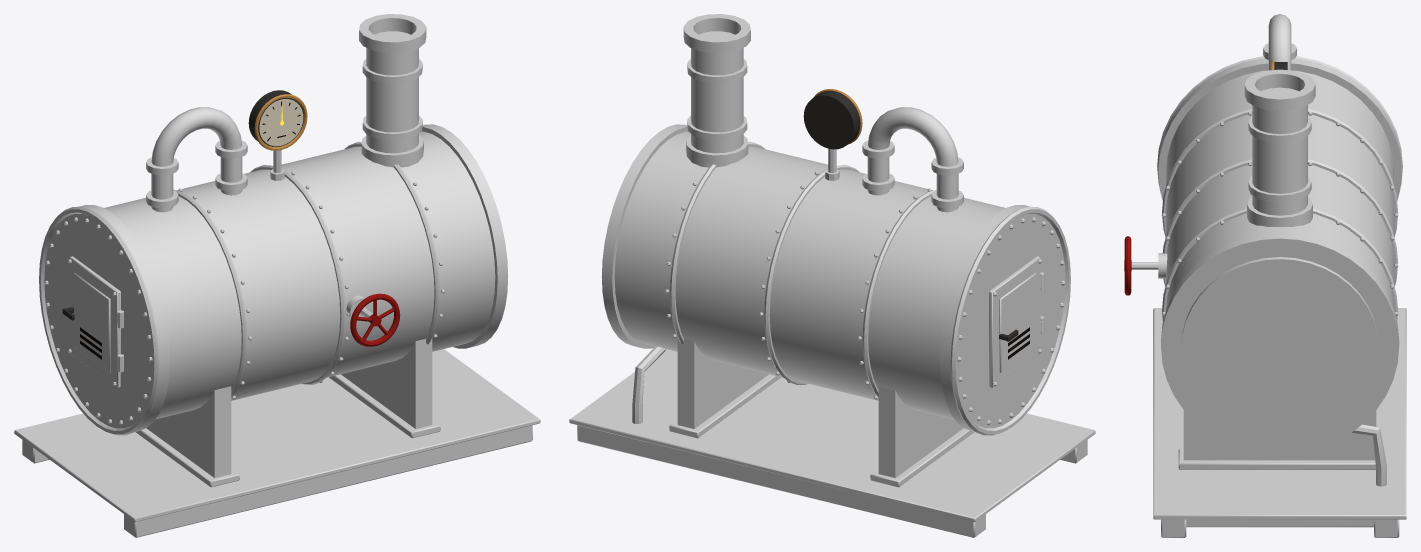
Rendered from Boiler.glb.
The picture shows the model from 3 angles, left to right: view 1: azimuth 30°, elevation 25°; view 2: azimuth 150°, elevation 25°; view 3: azimuth 270°, elevation 25°; orthographic projection. The views are drawn at different scales.
Visible parts, largest first — view 1: Boiler_Body, Boiler_Pipes, Boiler_Door, Boiler_GaugeFace, Boiler_Valve, Boiler_Rivets, Boiler_Gauge, Boiler_GaugeRim; view 2: Boiler_Body, Boiler_Pipes, Boiler_Door, Boiler_Gauge, Boiler_Rivets; view 3: Boiler_Body, Boiler_Pipes, Boiler_Rivets, Boiler_Valve.
Part boxes in pixels (left/top/right/bottom): Boiler_Body: left=14, top=124, right=540, bottom=537; Boiler_Pipes: left=146, top=14, right=426, bottom=320; Boiler_Door: left=68, top=256, right=123, bottom=387; Boiler_GaugeFace: left=259, top=99, right=303, bottom=146; Boiler_Valve: left=350, top=293, right=400, bottom=346; Boiler_Rivets: left=44, top=141, right=444, bottom=424; Boiler_Gauge: left=248, top=90, right=303, bottom=147; Boiler_GaugeRim: left=254, top=94, right=307, bottom=150; Boiler_Body: left=569, top=124, right=1095, bottom=537; Boiler_Pipes: left=632, top=14, right=963, bottom=423; Boiler_Door: left=989, top=256, right=1044, bottom=387; Boiler_Gauge: left=803, top=91, right=860, bottom=149; Boiler_Rivets: left=665, top=141, right=1065, bottom=424; Boiler_Body: left=1153, top=56, right=1406, bottom=537; Boiler_Pipes: left=1131, top=14, right=1386, bottom=486; Boiler_Rivets: left=1161, top=111, right=1398, bottom=315; Boiler_Valve: left=1124, top=236, right=1131, bottom=295.
Size of the model in its own units: 1.94 by 1.83 by 1.12.
